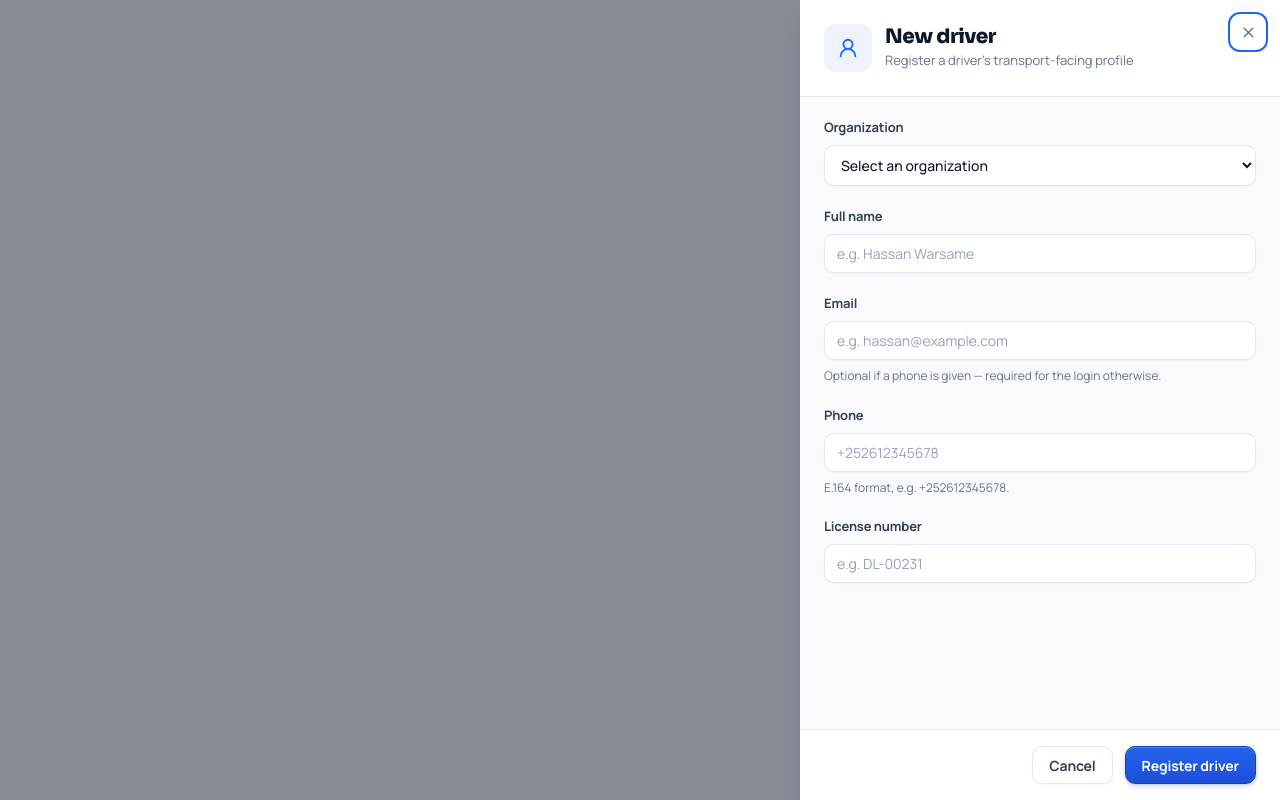
Scenario: CreateDriverForm › as founder › requires at least one of email or phone
The width and height of the screenshot is (1280, 800).
Select "Green Valley School" in the dropdown labelled "Organization": point(1040, 166) [824,145,1256,186]
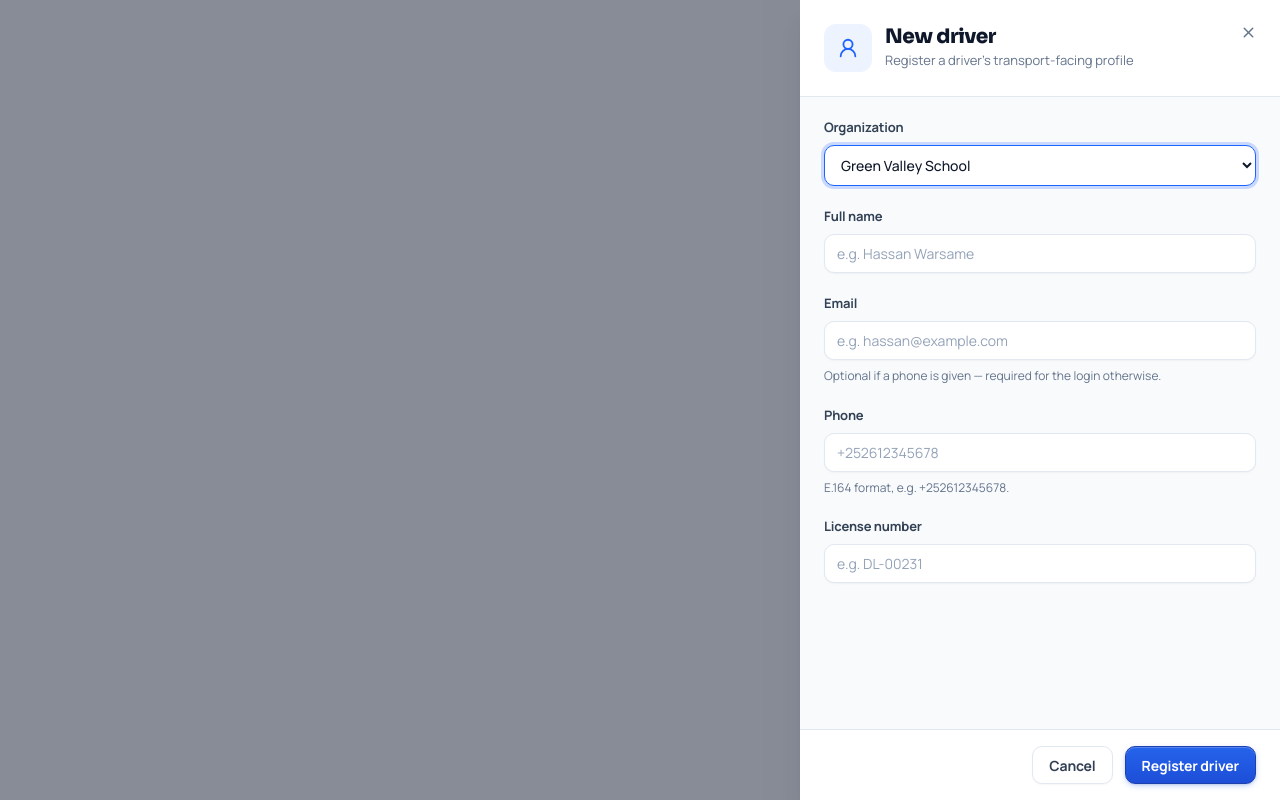
In the field with placeholder "e.g. Hassan Warsame": point(1040, 254) [824,234,1256,273], type "Hassan Warsame"
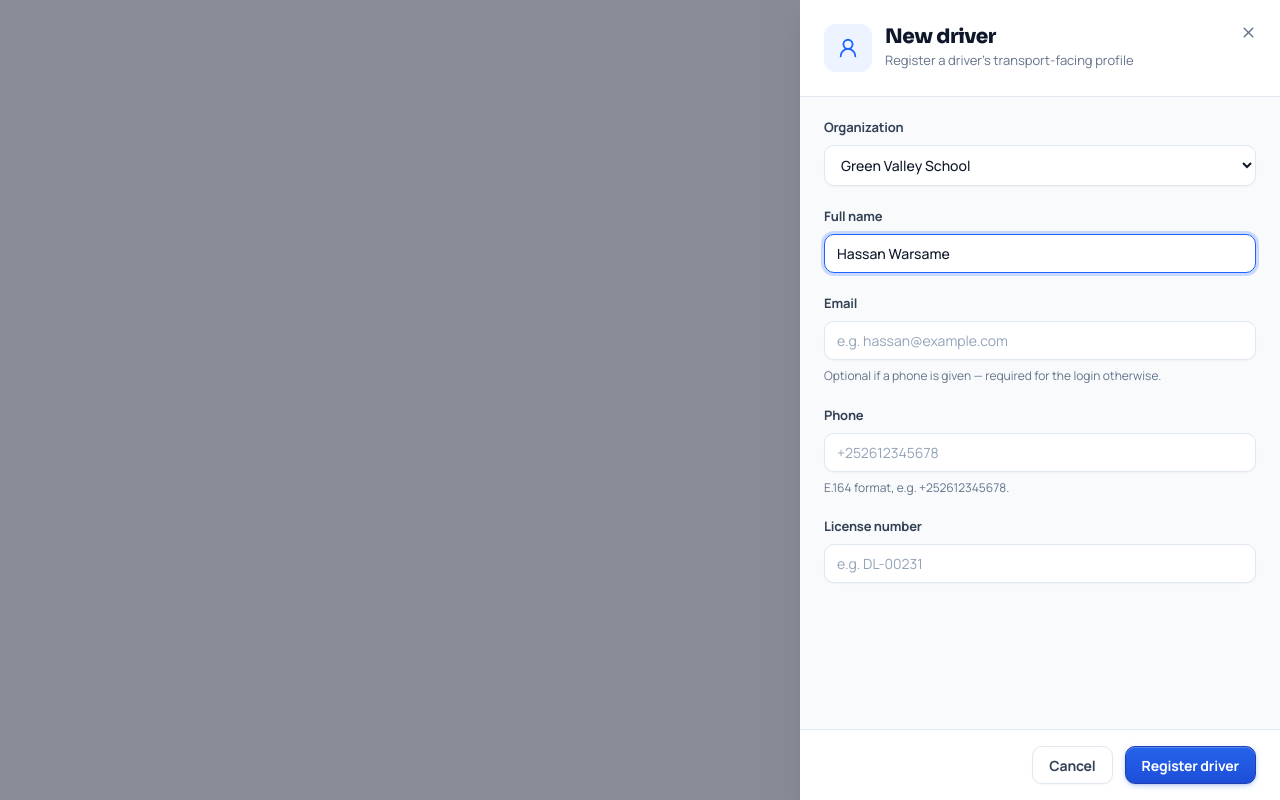
In the field with placeholder "e.g. DL-00231": point(1040, 564) [824,544,1256,583], type "DL-00231"
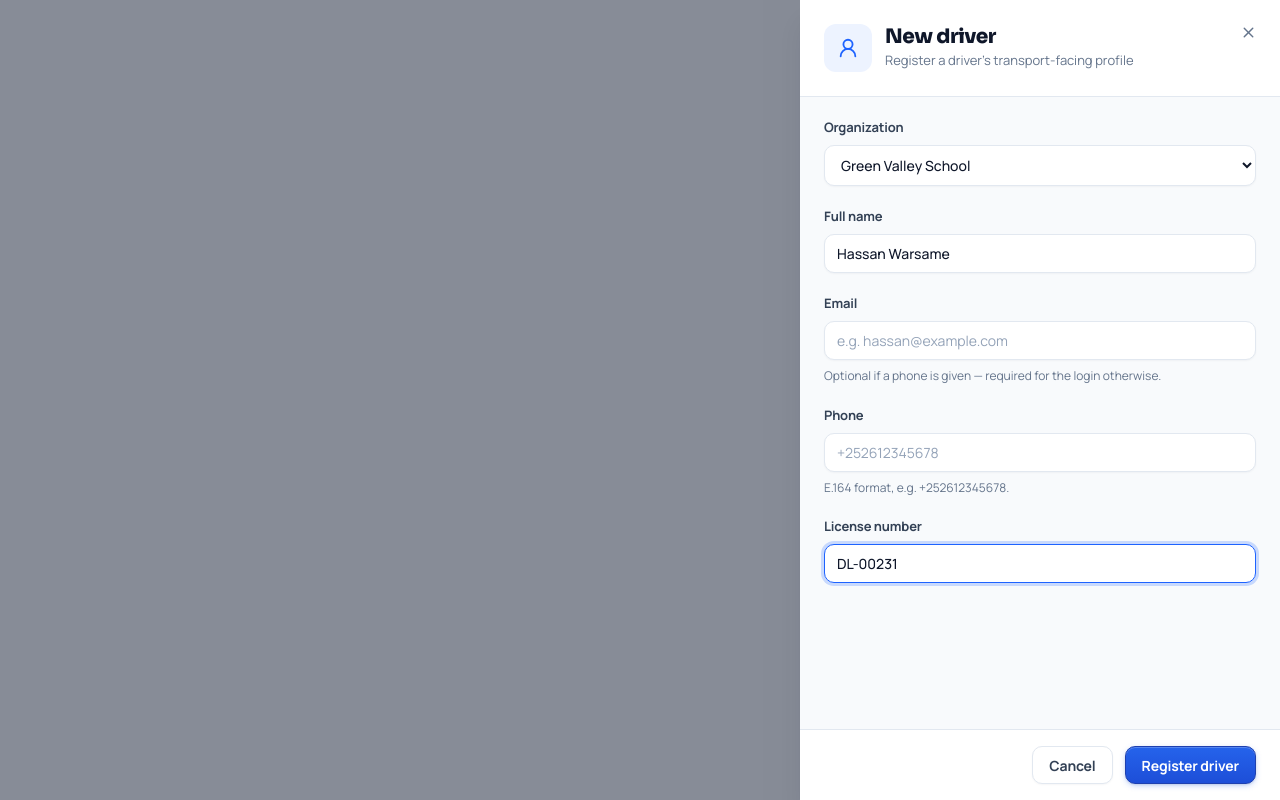
Click the button "Register driver": point(1190, 765) [1125,746,1256,784]
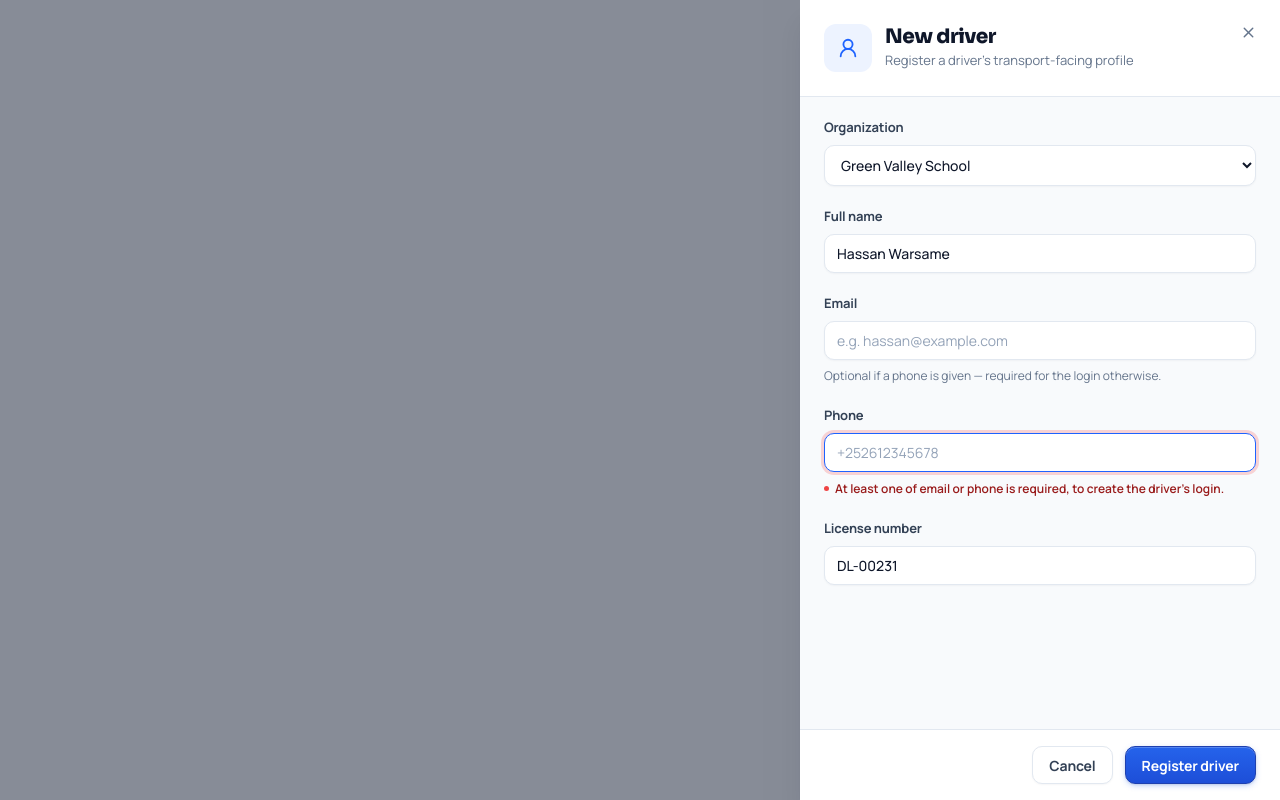
Expected: the text "At least one of email or phone is required, to create the driver's login." is shown, [824,480,1256,498]
